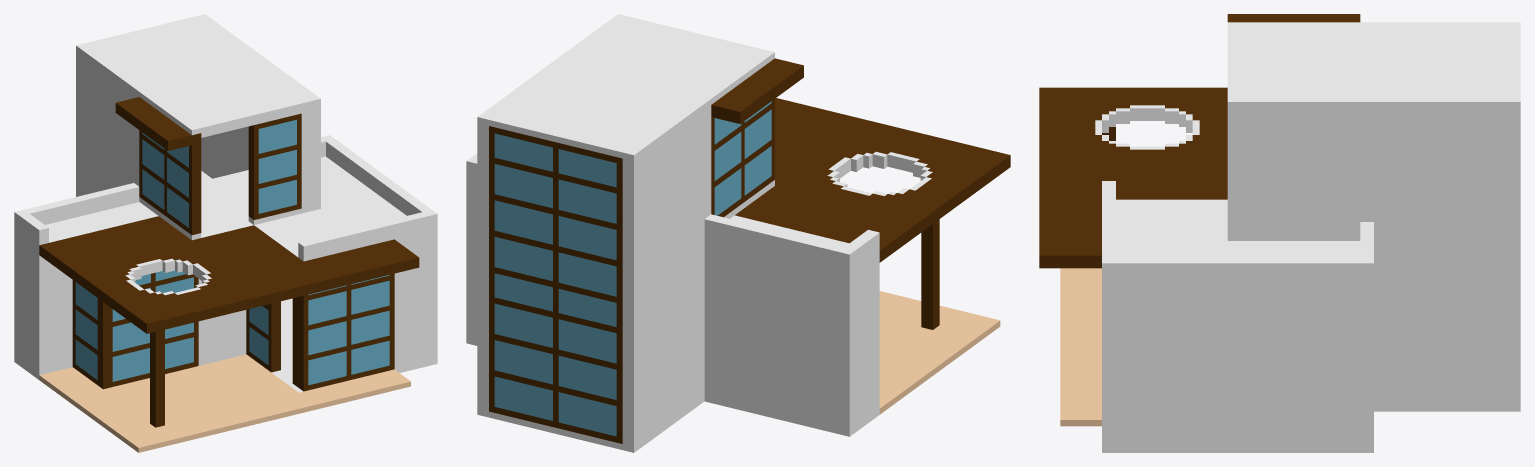
Rendered from Modern_house_2.obj.
3 renders of one model, left to right at view 1: azimuth 30°, elevation 25°; view 2: azimuth 150°, elevation 25°; view 3: azimuth 270°, elevation 25°, orthographic. The views are drawn at different scales.
Bounding box in the file's own units: 66 × 49 × 69.
Materials: 1 (1 with a texture image).
